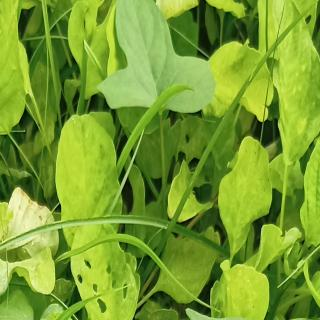virus_keriting: (295, 102, 320, 258)
